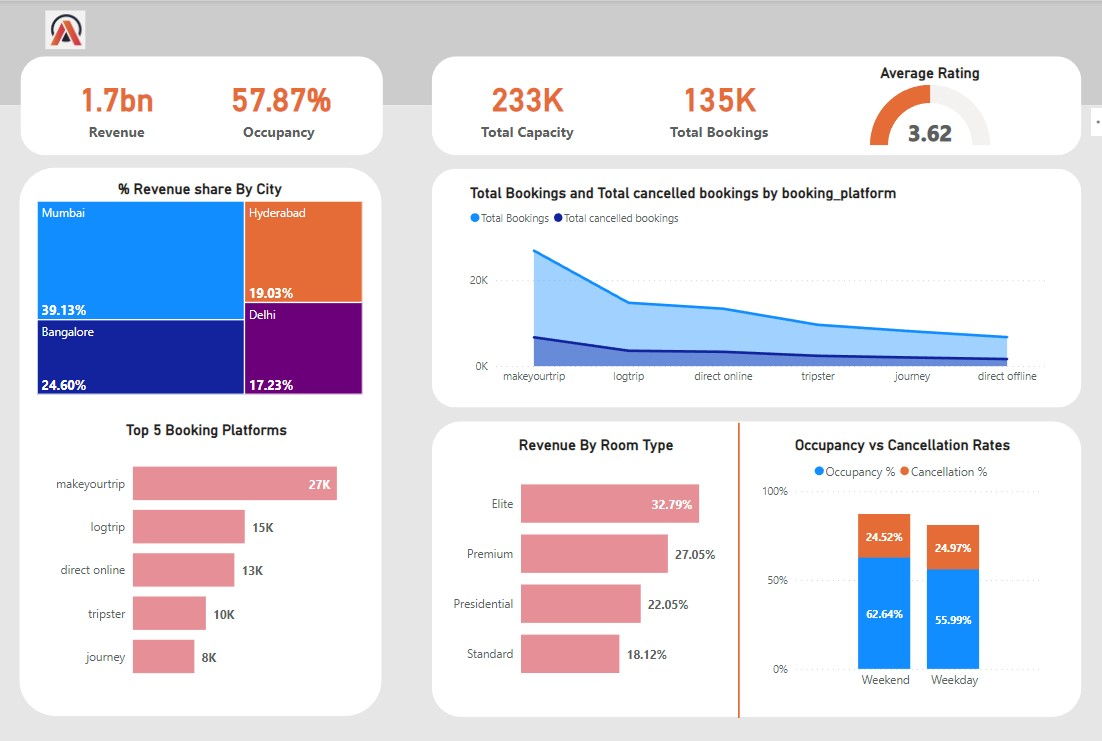

Layout of this report page (visuals, bound fields, positions):
{"tool":"powerbi","page":{"name":"Page 2","canvas":[1260,850],"ordinal":1},"visuals":[{"type":"shape","box":[0,0,1280,121],"z":0},{"type":"shape","box":[24.2,190.8,412.9,625],"z":1000},{"type":"shape","box":[493.7,480.1,740.3,336.5],"z":2000},{"type":"shape","box":[493.7,191.7,740.3,272],"z":3000},{"type":"shape","box":[25.6,64.1,412.9,112.5],"z":4000},{"type":"shape","box":[493.7,64.5,740.3,112.6],"z":5000},{"type":"areaChart","fields":{"Y":["key_measures.Total Bookings","key_measures.Total cancelled bookings"],"Category":["fact_bookings.booking_platform"]},"box":[532.5,209.3,664.9,237.8],"z":6000},{"type":"treemap","title":"% Revenue share By City","fields":{"Group":["dim_hotels.city"],"Values":["key_measures.Revenue"]},"box":[39.9,205,380.2,249.2],"z":7000},{"type":"clusteredBarChart","title":"Top 5 Booking Platforms","fields":{"Category":["fact_bookings.booking_platform"],"Y":["CountNonNull(fact_bookings.booking_platform)"]},"box":[52.8,480.1,369.5,313.2],"z":8000},{"type":"gauge","fields":{"Y":["key_measures.Average Rating"]},"box":[949.7,72,223.9,97.5],"z":9000},{"type":"card","fields":{"Values":["key_measures.Total Capacity"]},"box":[507.5,72,192.3,97.5],"z":10000},{"type":"card","title":"Revenue","fields":{"Values":["key_measures.Revenue"]},"box":[40.4,72.2,190.9,97.5],"z":11000},{"type":"card","fields":{"Values":["key_measures.Total Bookings"]},"box":[732.7,72,175.8,97.5],"z":12000},{"type":"card","fields":{"Values":["key_measures.Occupancy %"]},"box":[231.4,72.2,179.9,97.5],"z":13000},{"type":"clusteredBarChart","title":"Revenue By Room Type","fields":{"Y":["key_measures.Revenue"],"Category":["dim_rooms.room_class"]},"box":[507.5,496.6,348.9,299.4],"z":14000},{"type":"columnChart","title":"Occupancy vs Cancellation Rates","fields":{"Category":["dim_date.day_type"],"Y":["key_measures.Occupancy %","key_measures.Cancellation %"]},"box":[864.6,496.6,332.4,296.7],"z":15000},{"type":"shape","box":[793.1,481.5,101.6,336.5],"z":16000},{"type":"image","box":[42.7,7.1,68.3,54.1],"z":17000}]}

Visuals, with their boxes in screenshot pixels (x1, y1, x2, y2), scaled from the page's 1260x850 canvas onto the 1102x741 screenshot:
shape: 0/0/1101/105
shape: 21/166/382/711
shape: 432/419/1079/712
shape: 432/167/1079/404
shape: 22/56/384/154
shape: 432/56/1079/154
areaChart - key_measures.Total Bookings x key_measures.Total cancelled bookings: 466/182/1047/390
"% Revenue share By City" treemap: 35/179/367/396
"Top 5 Booking Platforms" clusteredBarChart: 46/419/369/692
gauge - key_measures.Average Rating: 831/63/1026/148
card - key_measures.Total Capacity: 444/63/612/148
"Revenue" card: 35/63/202/148
card - key_measures.Total Bookings: 641/63/795/148
card - key_measures.Occupancy %: 202/63/360/148
"Revenue By Room Type" clusteredBarChart: 444/433/749/694
"Occupancy vs Cancellation Rates" columnChart: 756/433/1047/692
shape: 694/420/783/713
image: 37/6/97/53
